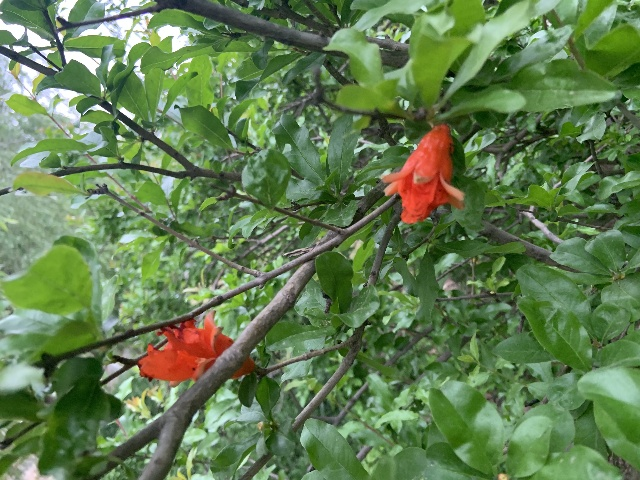flower: (137, 309, 254, 385), (382, 123, 465, 224)
